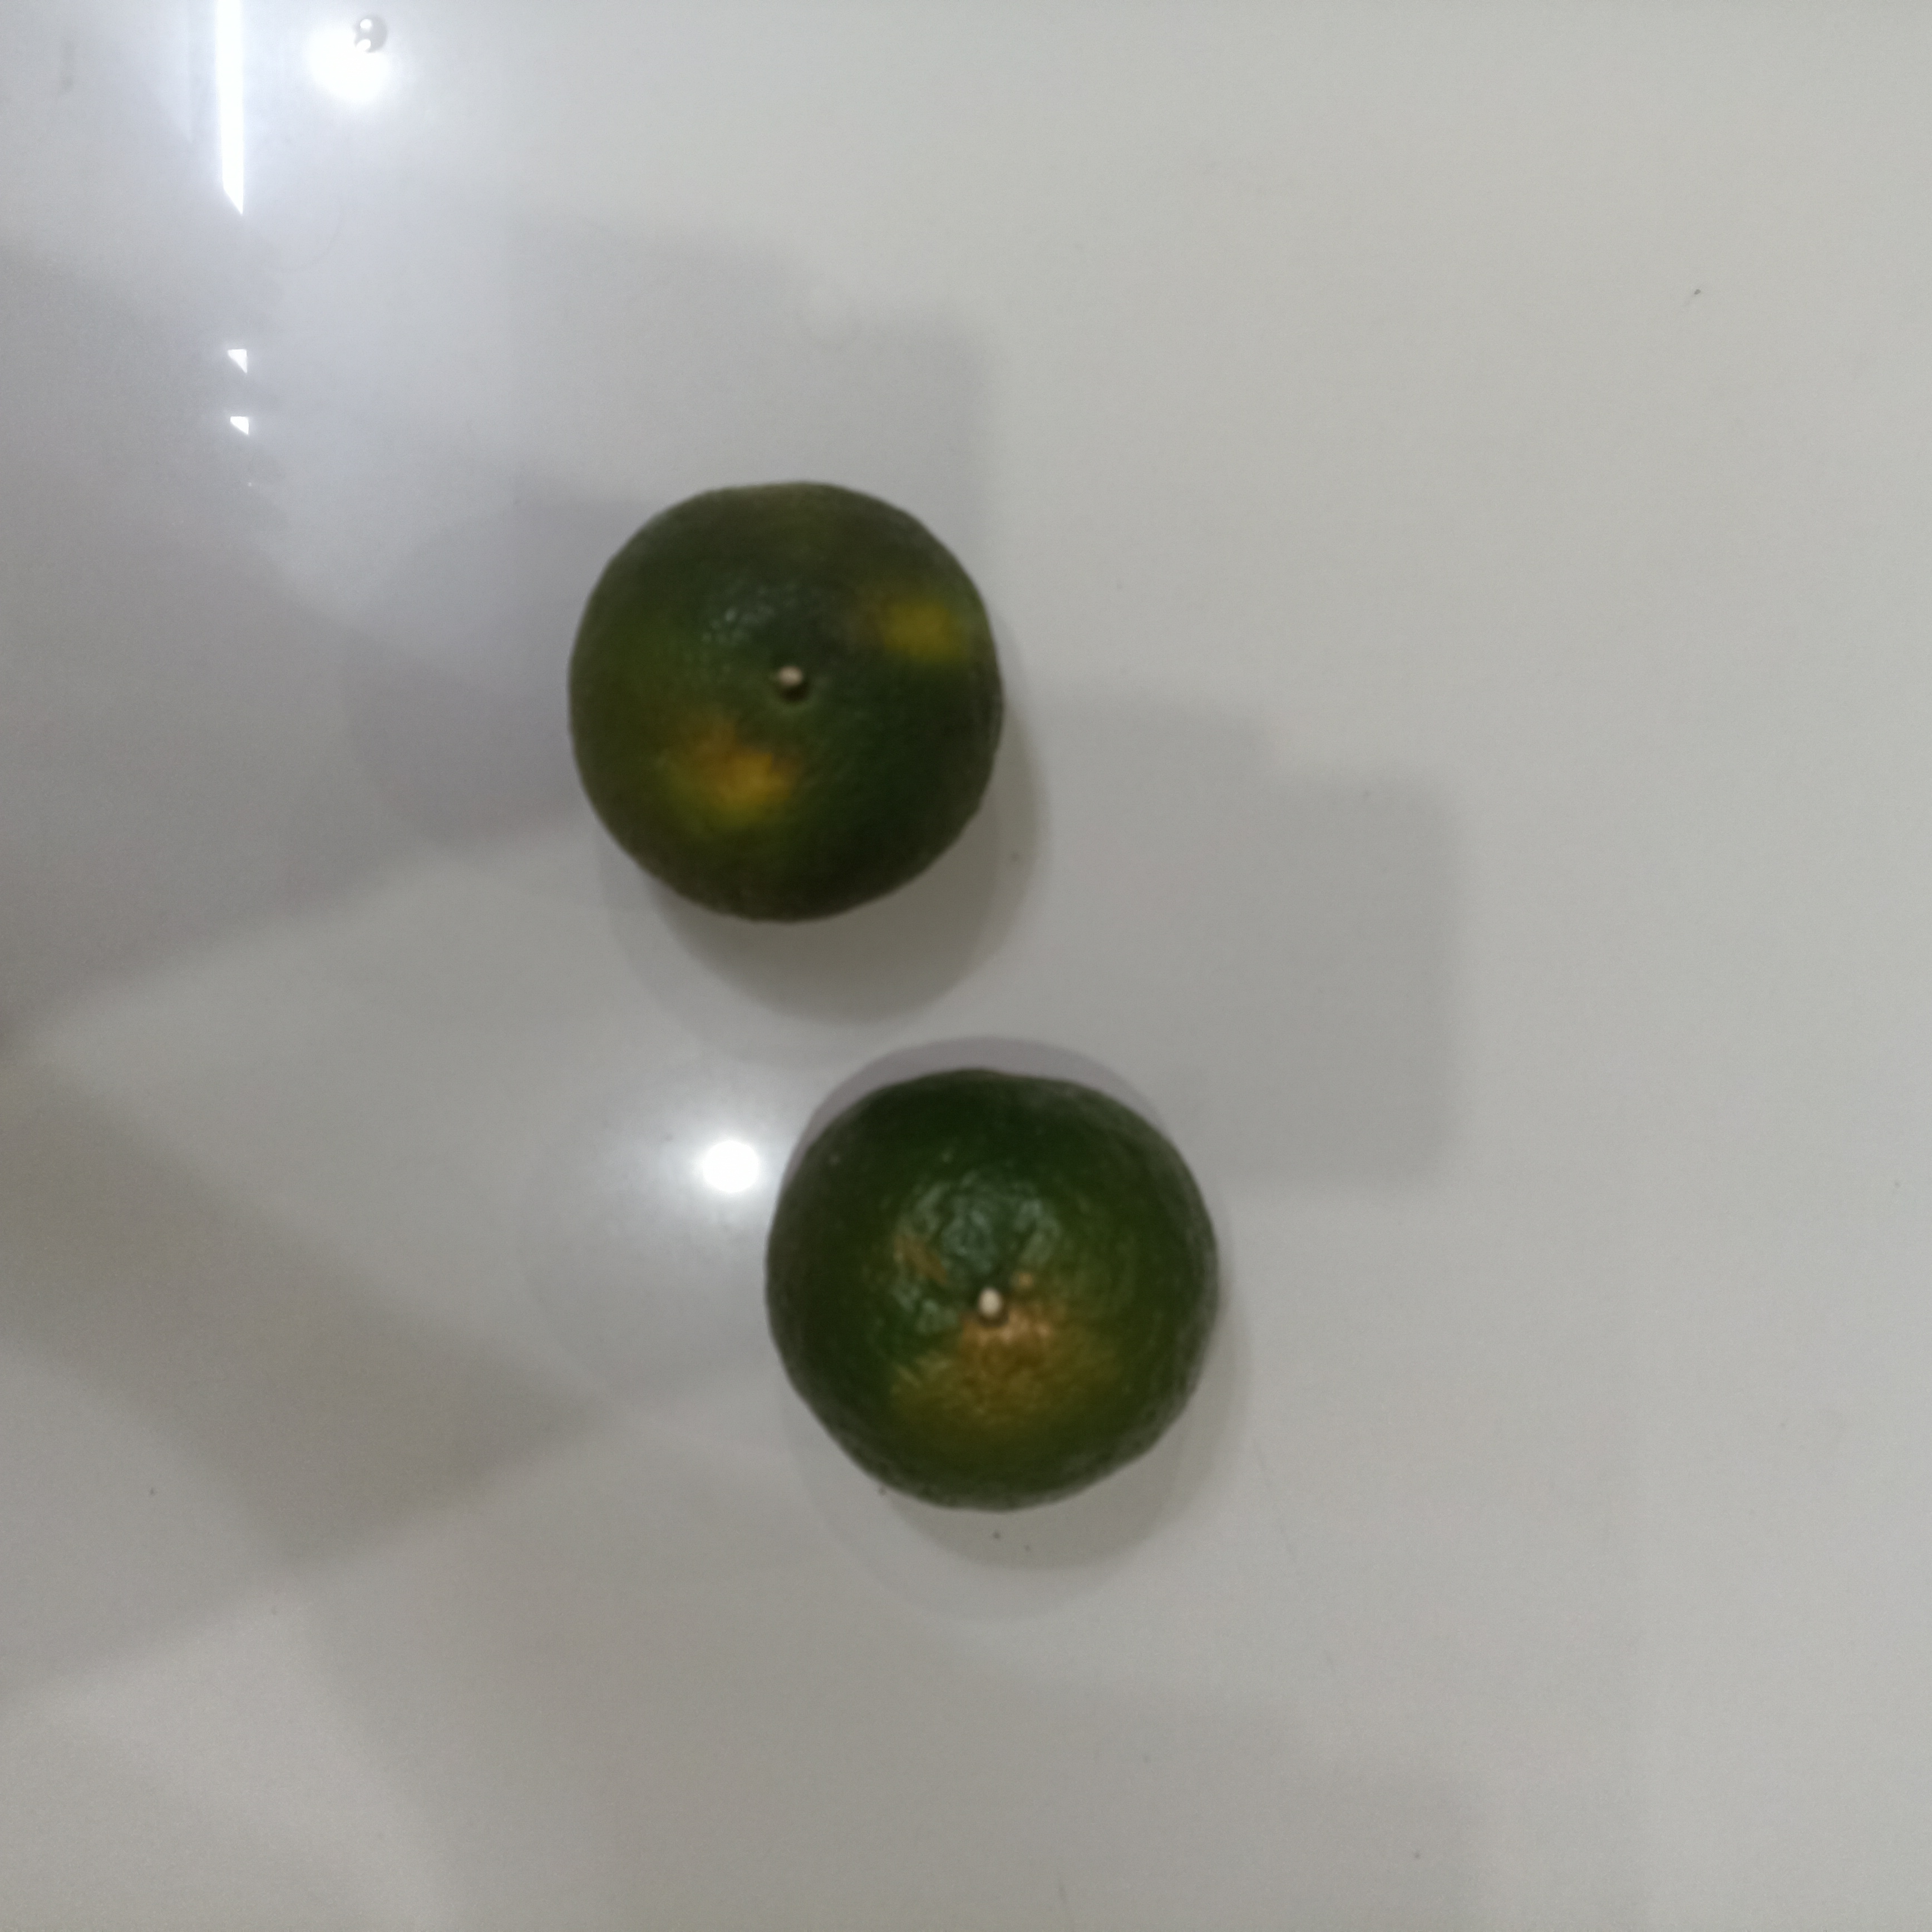Cam: (761, 1070, 1226, 1519), (568, 475, 1010, 937)
